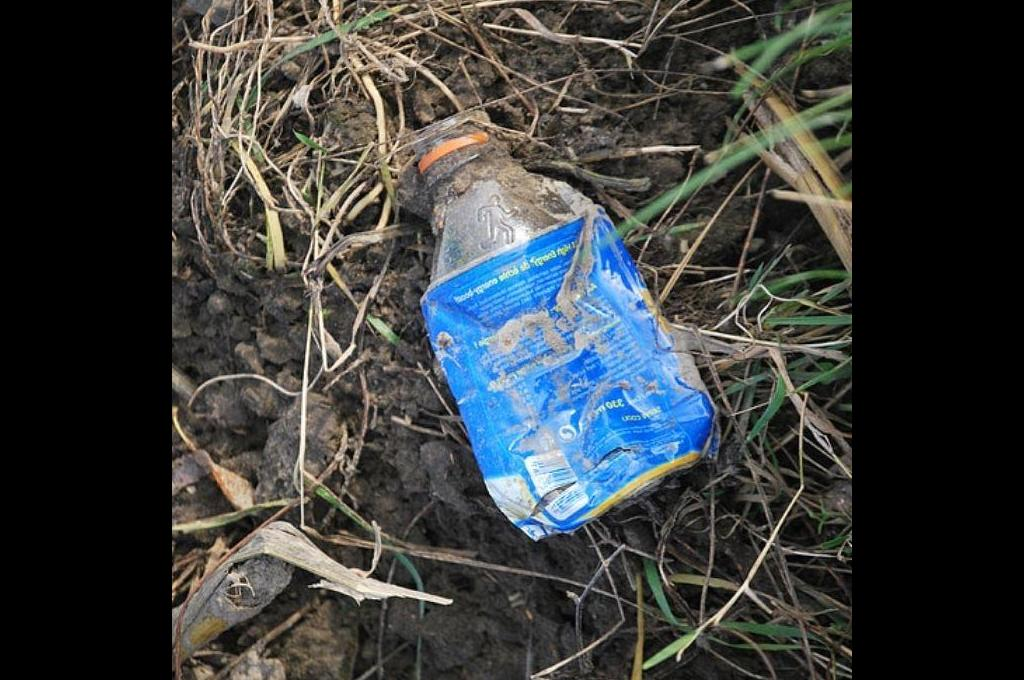bottle: (369, 105, 746, 556)
